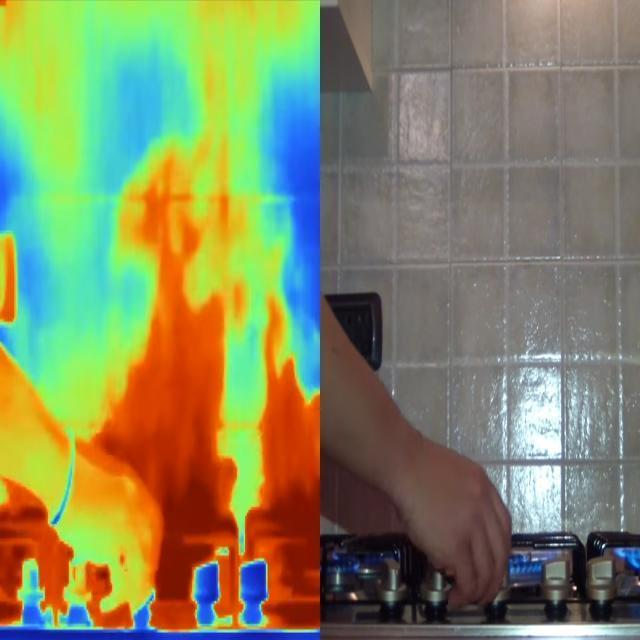fire: (160, 489, 239, 630), (268, 482, 322, 631), (2, 524, 51, 626)
